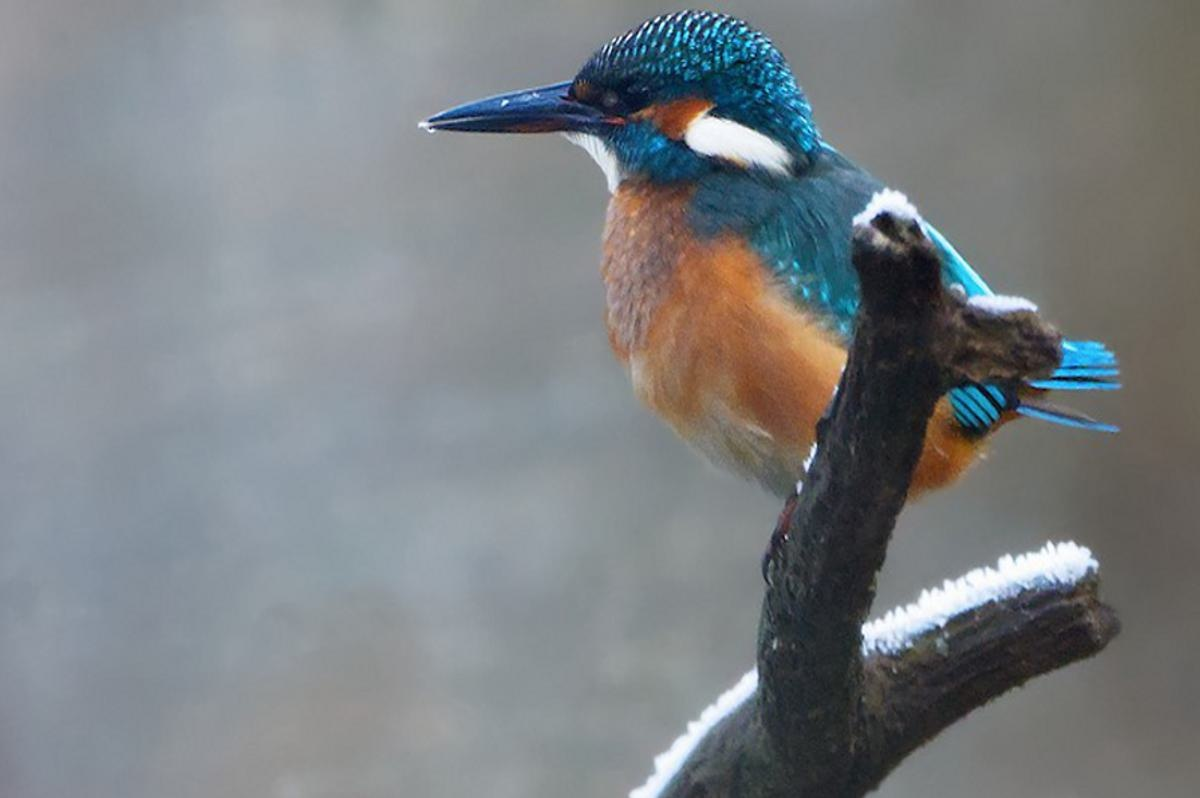kingfisher: (416, 6, 1121, 550)
